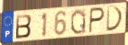1: (40, 12, 48, 38)
6: (53, 9, 68, 37)
B: (15, 14, 33, 40)
D: (105, 6, 124, 33)
P: (88, 6, 106, 35)
Q: (70, 8, 87, 35)
